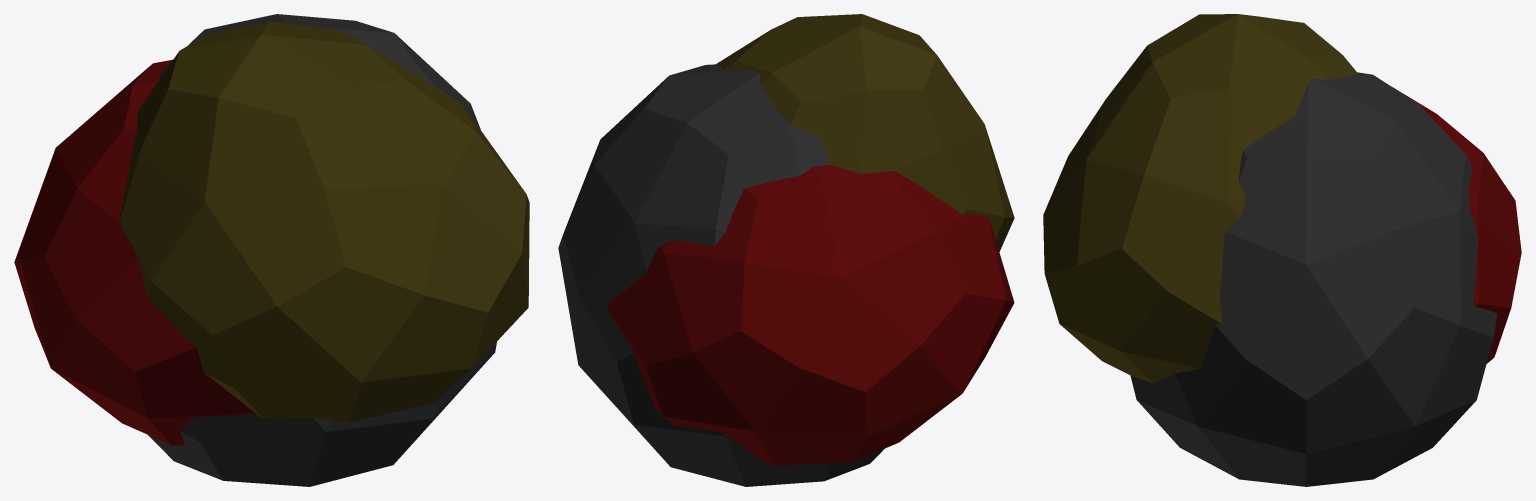
Rendered from Meteor1.glb.
3 views of the same model, side by side, from view 1: azimuth 30°, elevation 25°; view 2: azimuth 150°, elevation 25°; view 3: azimuth 270°, elevation 25° (orthographic). The views are drawn at different scales.
Visible parts, largest first — view 1: Icosphere.002, Icosphere.001, Icosphere; view 2: Icosphere.001, Icosphere, Icosphere.002; view 3: Icosphere, Icosphere.002, Icosphere.001.
Part boxes in pixels (box(x1,y1,x2,y2)): Icosphere.002: box(118, 21, 529, 422); Icosphere.001: box(14, 59, 255, 445); Icosphere: box(148, 14, 496, 486); Icosphere.001: box(607, 164, 1014, 465); Icosphere: box(558, 64, 883, 486); Icosphere.002: box(716, 14, 1014, 251); Icosphere: box(1130, 72, 1497, 486); Icosphere.002: box(1043, 14, 1358, 383); Icosphere.001: box(1393, 87, 1521, 363).
Size of the model in its own units: 1.56 by 1.61 by 1.63.
